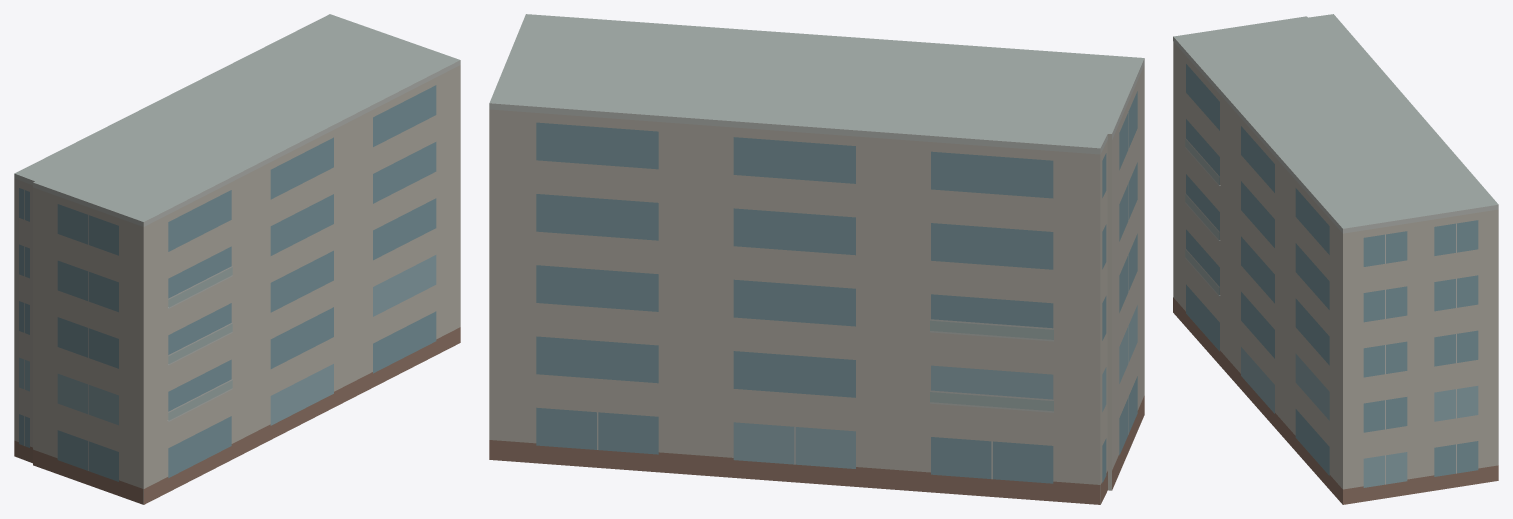
Rendered from survey-upis-32858745.glb.
The picture shows the model from 3 angles, left to right: view 1: azimuth 30°, elevation 25°; view 2: azimuth 150°, elevation 25°; view 3: azimuth 270°, elevation 25°; orthographic projection. The views are drawn at different scales.
Parts seen in each view (by area): view 1: survey-upis-32858745.tmp; view 2: survey-upis-32858745.tmp; view 3: survey-upis-32858745.tmp.
Boxes of the visible parts, box(x1,y1,x2,y2) form: survey-upis-32858745.tmp: box(14, 14, 460, 504); survey-upis-32858745.tmp: box(489, 14, 1144, 504); survey-upis-32858745.tmp: box(1173, 14, 1498, 504).
Size of the model in its own units: 23.54 by 14.1 by 15.08.
